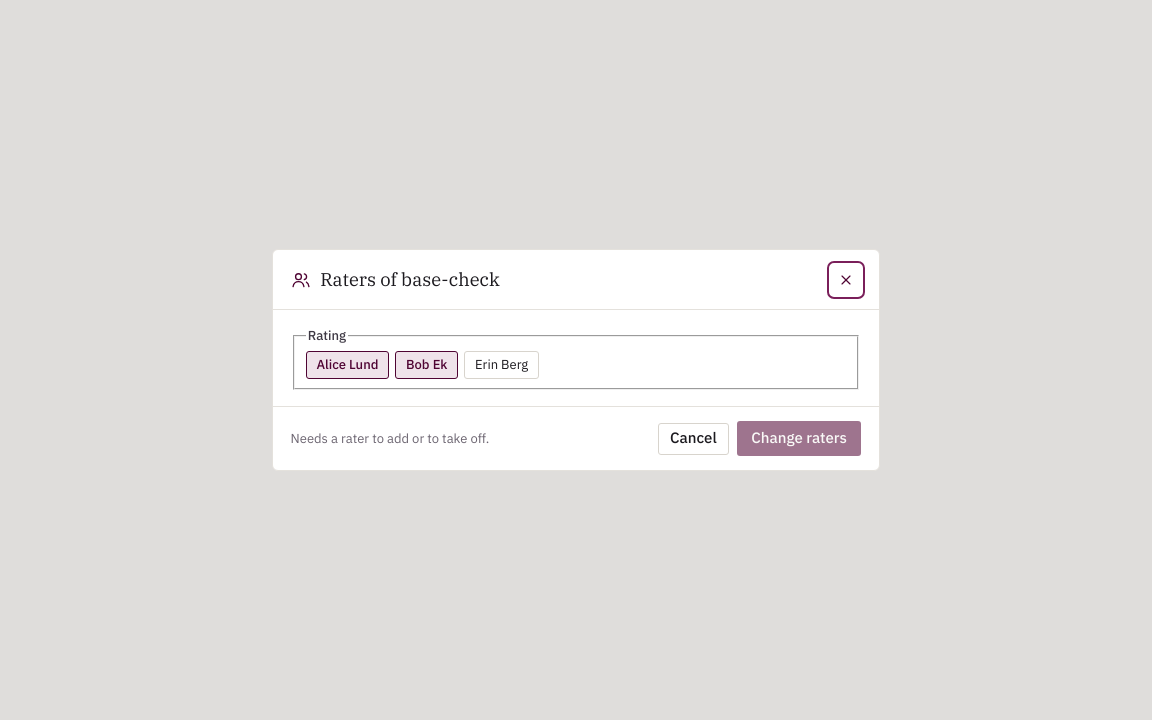
Test: the raters dialog › says the engine's refusal in place, and keeps the dialog
The width and height of the screenshot is (1152, 720).
Click the button with class "opt" showing "Erin Berg": x=502, y=365 [464, 351, 539, 379]
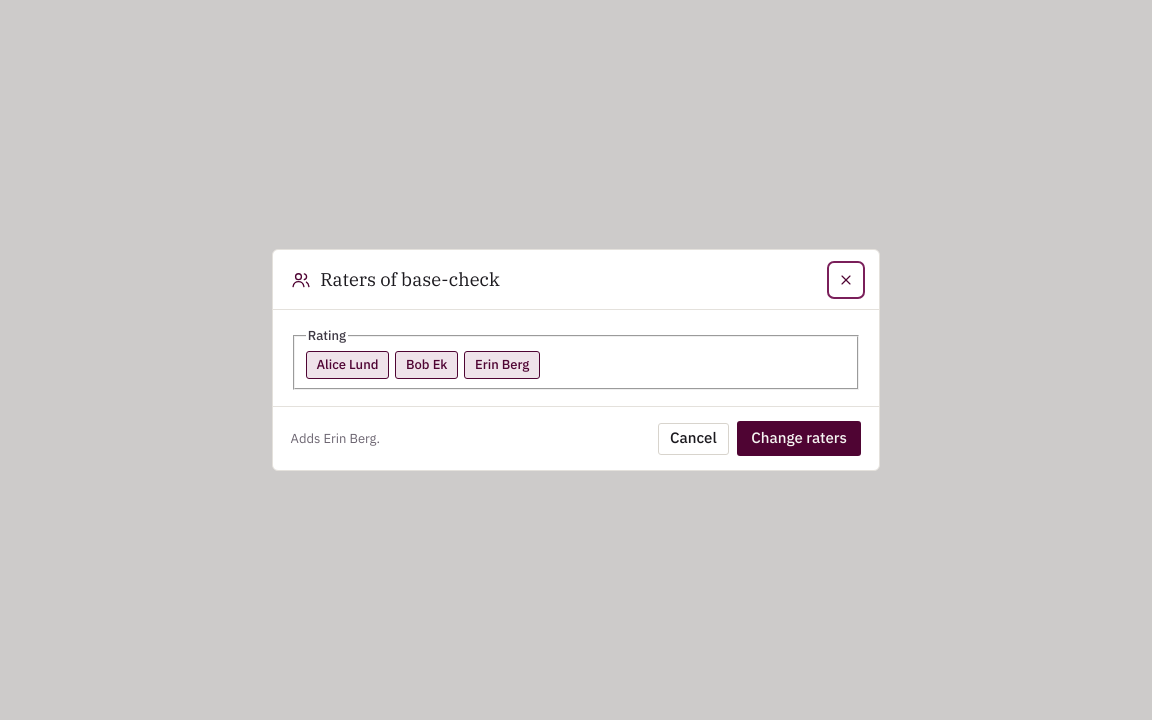
Click the button "Change raters": x=799, y=439 [737, 421, 861, 456]
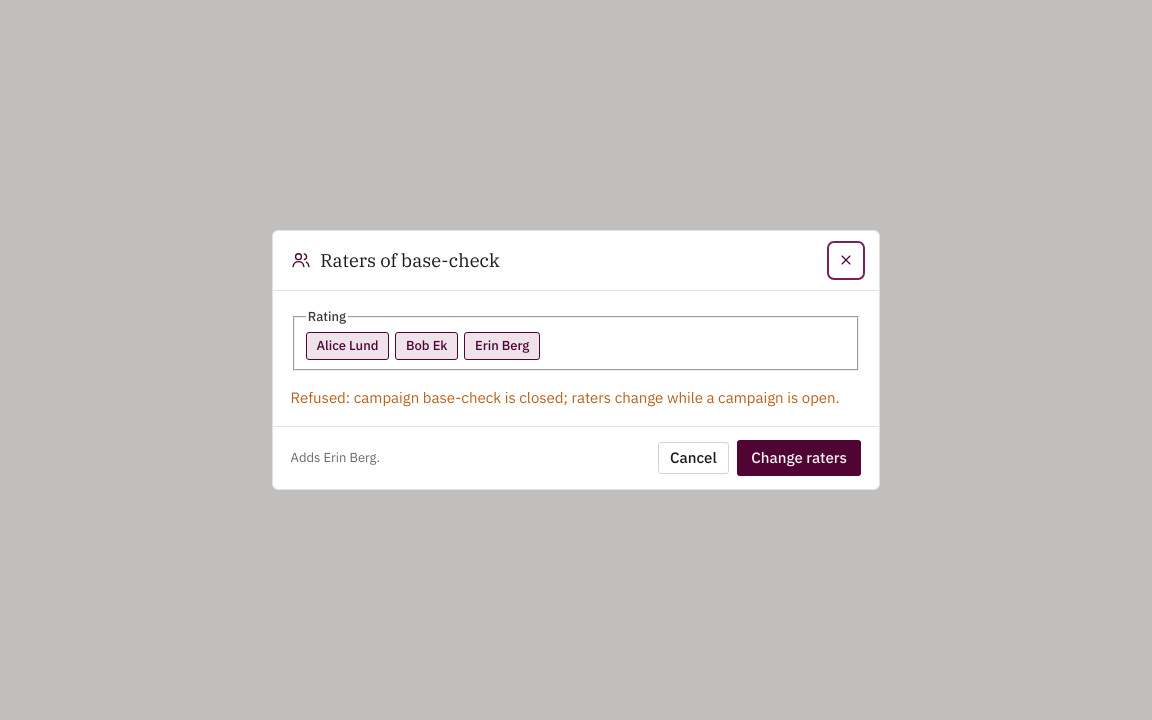
Now the button "Change raters" is enabled, box [737, 440, 861, 476]
Now the dialog shows "Refused: campaign base-check is closed; raters change while a campaign is open.", box [291, 388, 840, 407]
